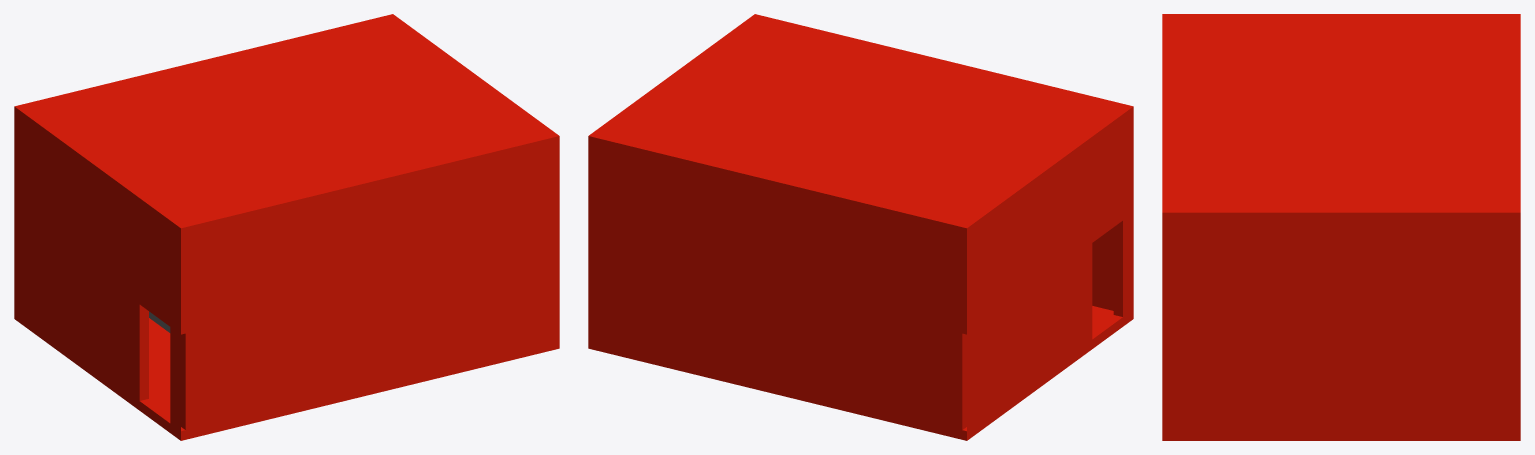
File: sala.fbx
The picture shows the model from 3 angles, left to right: view 1: azimuth 30°, elevation 25°; view 2: azimuth 150°, elevation 25°; view 3: azimuth 270°, elevation 25°; orthographic projection. The views are drawn at different scales.
Visible parts, largest first — view 1: sala; view 2: sala; view 3: sala.
Boxes of the visible parts, bbox=[...] form: sala: bbox=[14, 14, 559, 440]; sala: bbox=[588, 14, 1133, 440]; sala: bbox=[1162, 14, 1520, 440].
Bounding box in the file's own units: 1640 × 880 × 1250.
